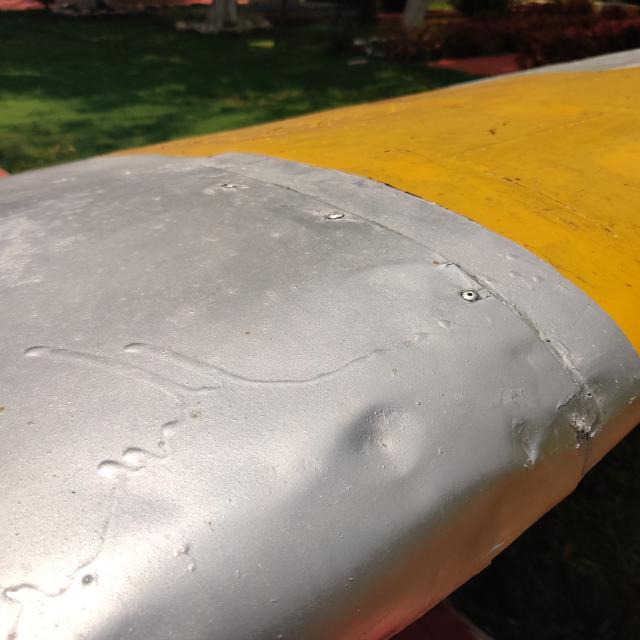dent: (309, 371, 456, 512), (488, 399, 566, 482)
